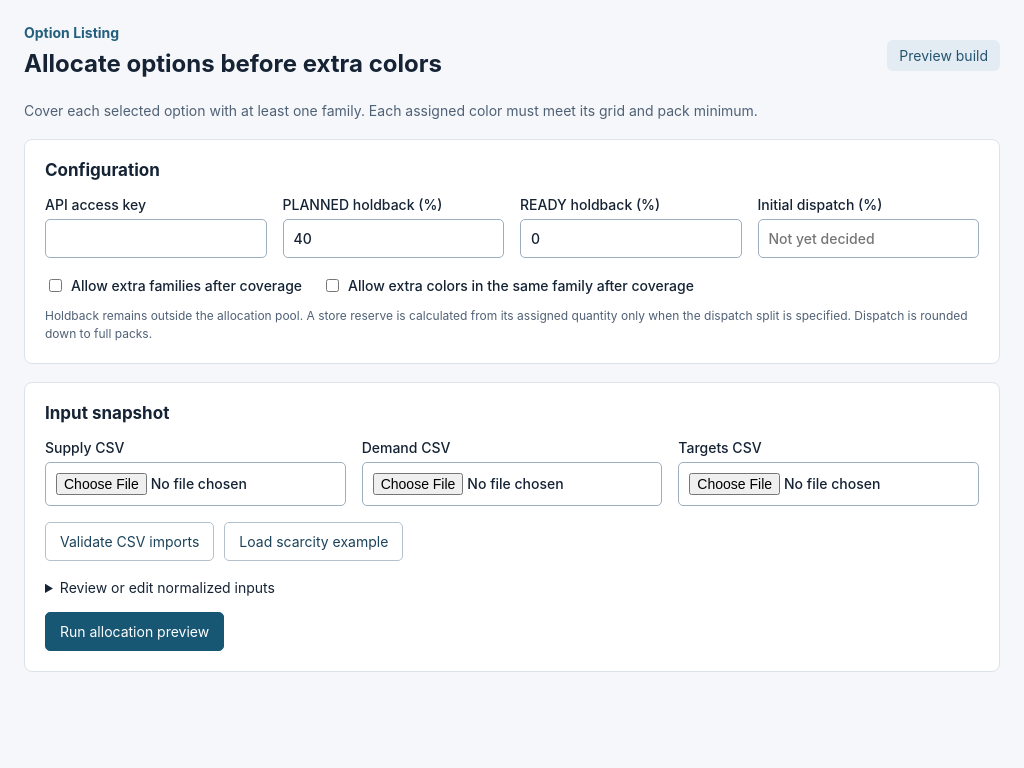
reports server validation failures
In the password field labelled "API access key": (156, 238) [45,219,266,258], type "test-only"
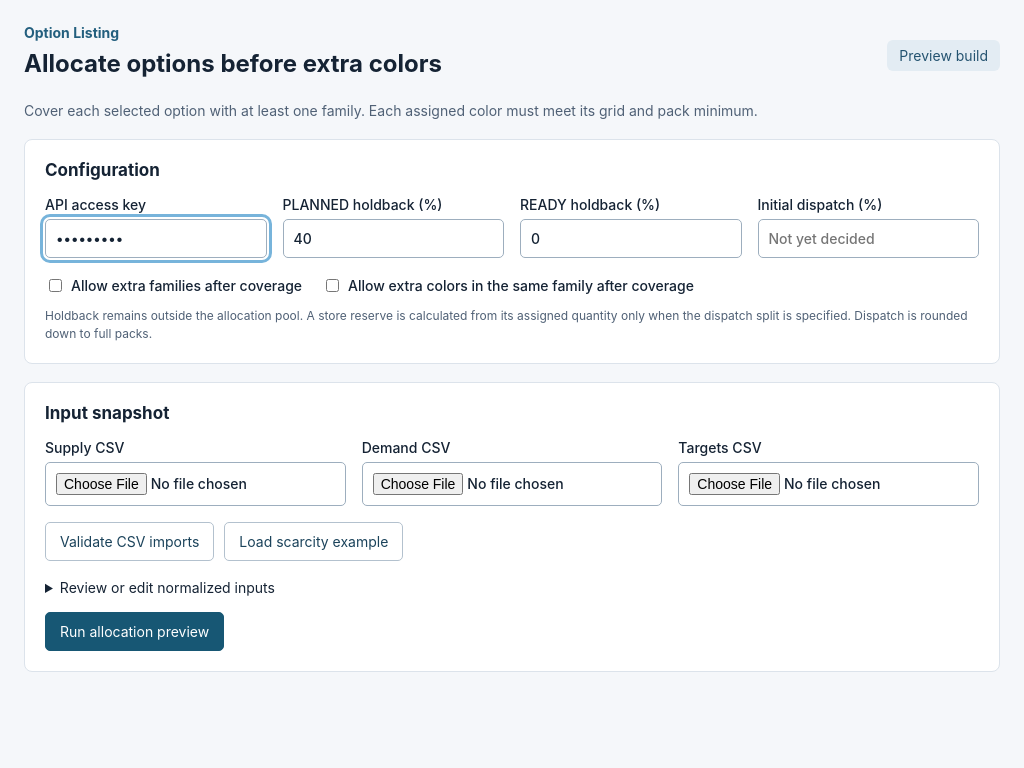
Click the button "Run allocation preview": (135, 632) [45,612,224,651]
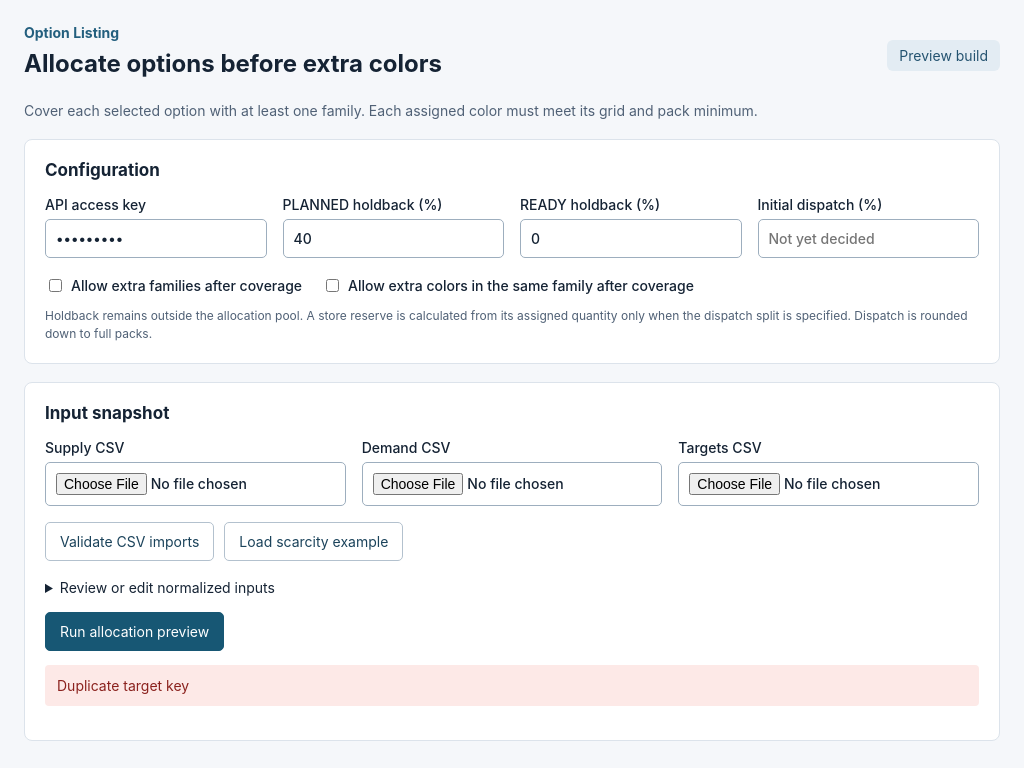
Expected: the message reads "Duplicate target key", [57,677,189,694]
